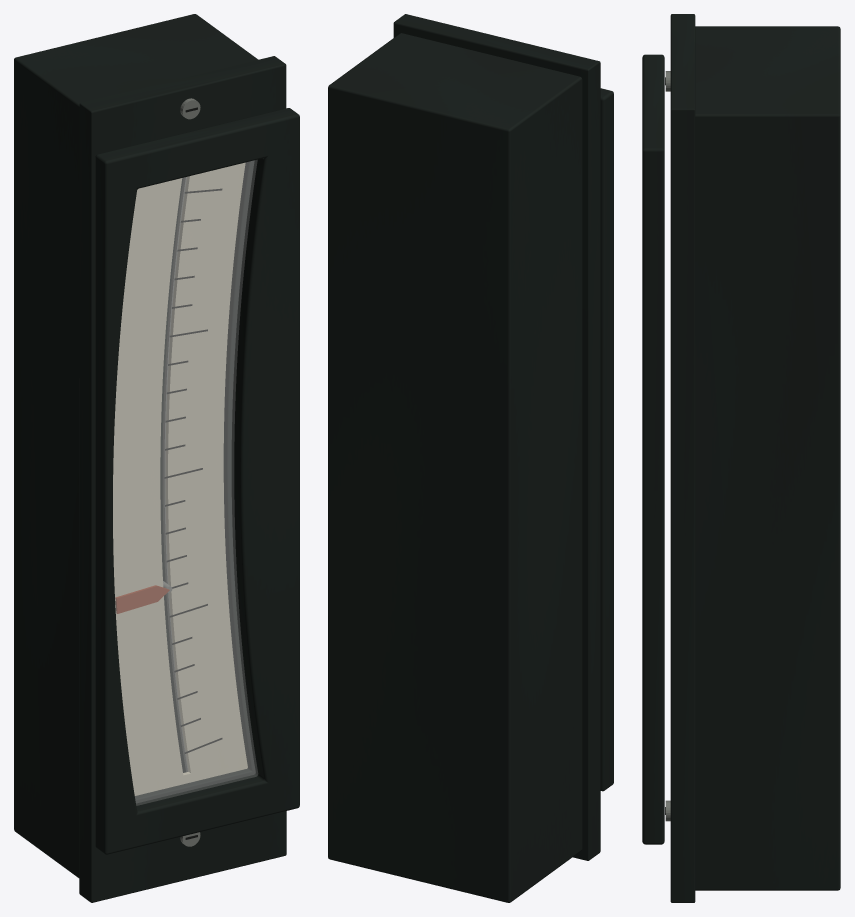
Rendered from linear_gauge_raised_bezel.glb.
3 views of the same model, side by side, from view 1: azimuth 30°, elevation 25°; view 2: azimuth 150°, elevation 25°; view 3: azimuth 270°, elevation 25° (orthographic).
Visible parts, largest first — view 1: Fixed_Protective_Glass, Fixed_Raised_Metal_Bezel, Fixed_Rear_Housing, Fixed_Scale_Window, Fixed_Front_Frame, Fixed_Curved_Guide_Rail.001, Fixed_Right_Hand_Scale_Marks, Moving_Wide_Pointer; view 2: Fixed_Rear_Housing, Fixed_Front_Frame, Fixed_Raised_Metal_Bezel; view 3: Fixed_Rear_Housing, Fixed_Front_Frame, Fixed_Raised_Metal_Bezel.
Boxes of the visible parts, x1,y1,x2,y2 form: Fixed_Protective_Glass: (113, 160, 257, 805); Fixed_Raised_Metal_Bezel: (95, 108, 299, 854); Fixed_Rear_Housing: (14, 14, 258, 877); Fixed_Scale_Window: (113, 163, 247, 795); Fixed_Front_Frame: (79, 56, 286, 902); Fixed_Curved_Guide_Rail.001: (162, 177, 188, 772); Fixed_Right_Hand_Scale_Marks: (164, 188, 222, 753); Moving_Wide_Pointer: (115, 585, 169, 613); Fixed_Rear_Housing: (328, 33, 582, 902); Fixed_Front_Frame: (393, 14, 600, 860); Fixed_Raised_Metal_Bezel: (600, 88, 613, 791); Fixed_Rear_Housing: (695, 26, 840, 890); Fixed_Front_Frame: (670, 14, 695, 902); Fixed_Raised_Metal_Bezel: (642, 54, 664, 844).
Bounding box in the file's own units: 0.046 × 0.178 × 0.0402.
6 materials, 2 textured.
